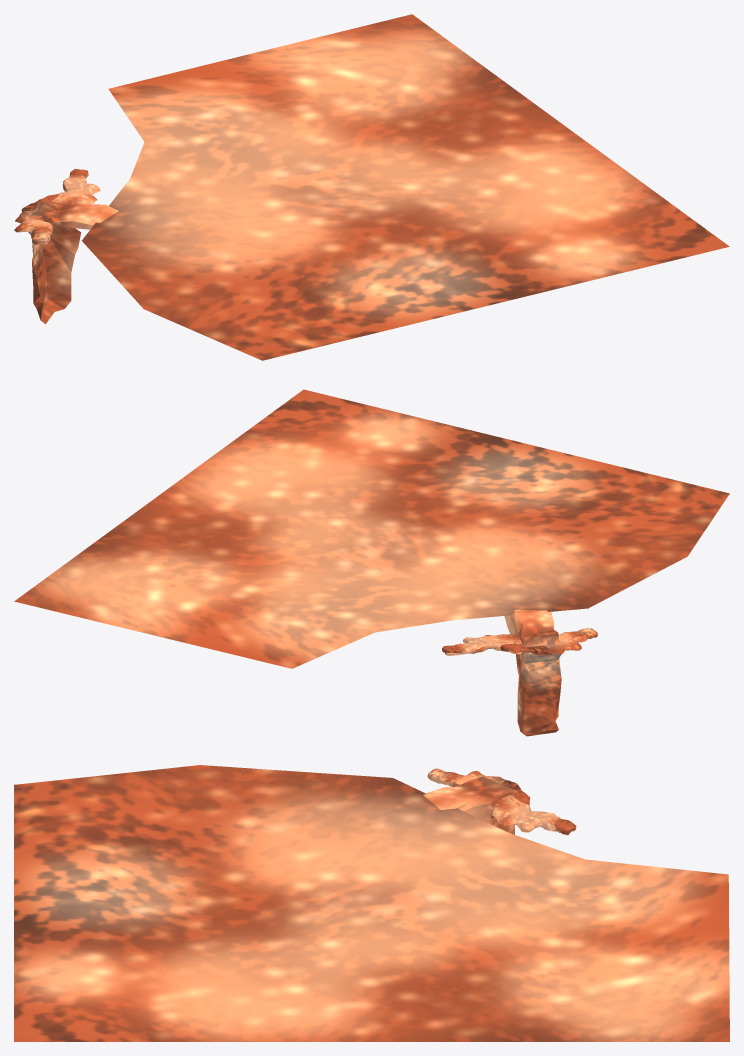
File: LV6Lava.fbx
3 views of the same model, one above another, from view 1: azimuth 30°, elevation 25°; view 2: azimuth 150°, elevation 25°; view 3: azimuth 270°, elevation 25° (orthographic). The views are drawn at different scales.
Visible parts, largest first — view 1: RockWalkway_26; view 2: RockWalkway_26; view 3: RockWalkway_26.
Part boxes in pixels (box(x1,y1,x2,y2)): RockWalkway_26: box(14, 14, 729, 360); RockWalkway_26: box(14, 389, 729, 736); RockWalkway_26: box(14, 765, 729, 1041).
Size of the model in its own units: 290 by 61.77 by 314.
